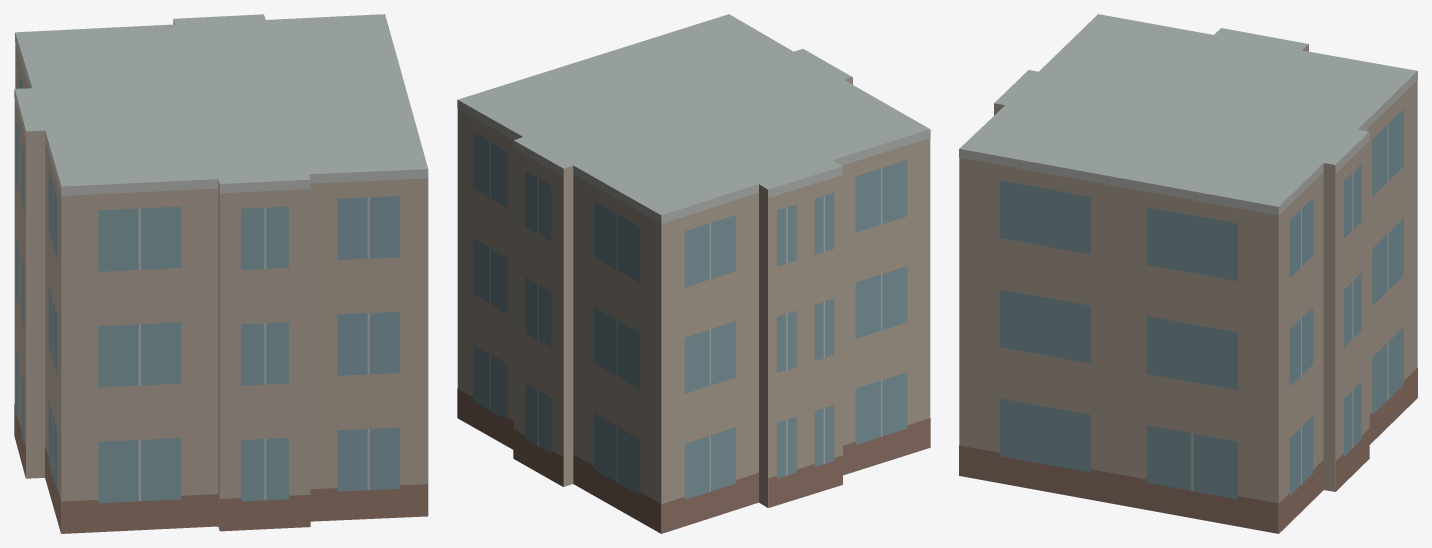
The model's file is survey-upis-32971576.glb.
3 views of the same model, side by side, from view 1: azimuth 30°, elevation 25°; view 2: azimuth 150°, elevation 25°; view 3: azimuth 270°, elevation 25° (orthographic). The views are drawn at different scales.
Visible parts, largest first — view 1: survey-upis-32971576.tmp; view 2: survey-upis-32971576.tmp; view 3: survey-upis-32971576.tmp.
Boxes of the visible parts, <box> form: survey-upis-32971576.tmp: <box>14,14,428,533</box>; survey-upis-32971576.tmp: <box>457,14,930,533</box>; survey-upis-32971576.tmp: <box>959,14,1417,533</box>.
Size of the model in its own units: 11.52 by 9.1 by 11.58.
